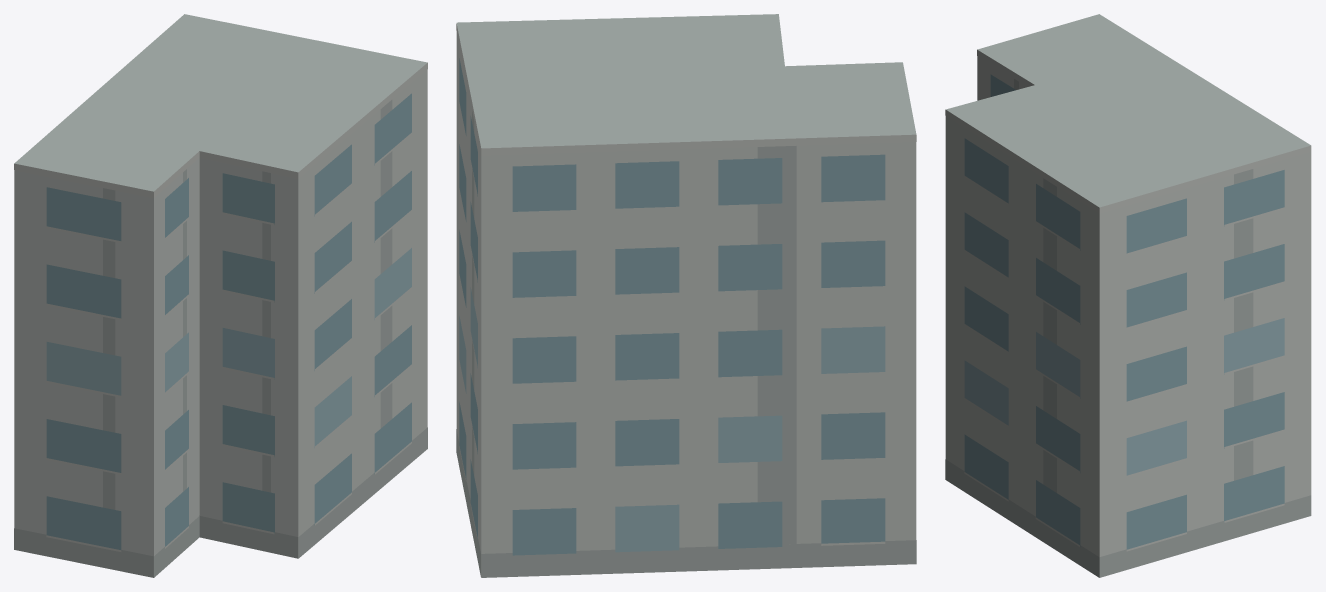
The model's file is survey-upis-32958776.glb.
The picture shows the model from 3 angles, left to right: view 1: azimuth 30°, elevation 25°; view 2: azimuth 150°, elevation 25°; view 3: azimuth 270°, elevation 25°; orthographic projection. The views are drawn at different scales.
Visible parts, largest first — view 1: survey-upis-32958776.tmp; view 2: survey-upis-32958776.tmp; view 3: survey-upis-32958776.tmp.
Boxes of the visible parts, <box> form: survey-upis-32958776.tmp: <box>14,14,427,577</box>; survey-upis-32958776.tmp: <box>456,14,916,577</box>; survey-upis-32958776.tmp: <box>945,14,1311,577</box>.
Bounding box in the file's own units: 15.92 × 14.2 × 12.72.
